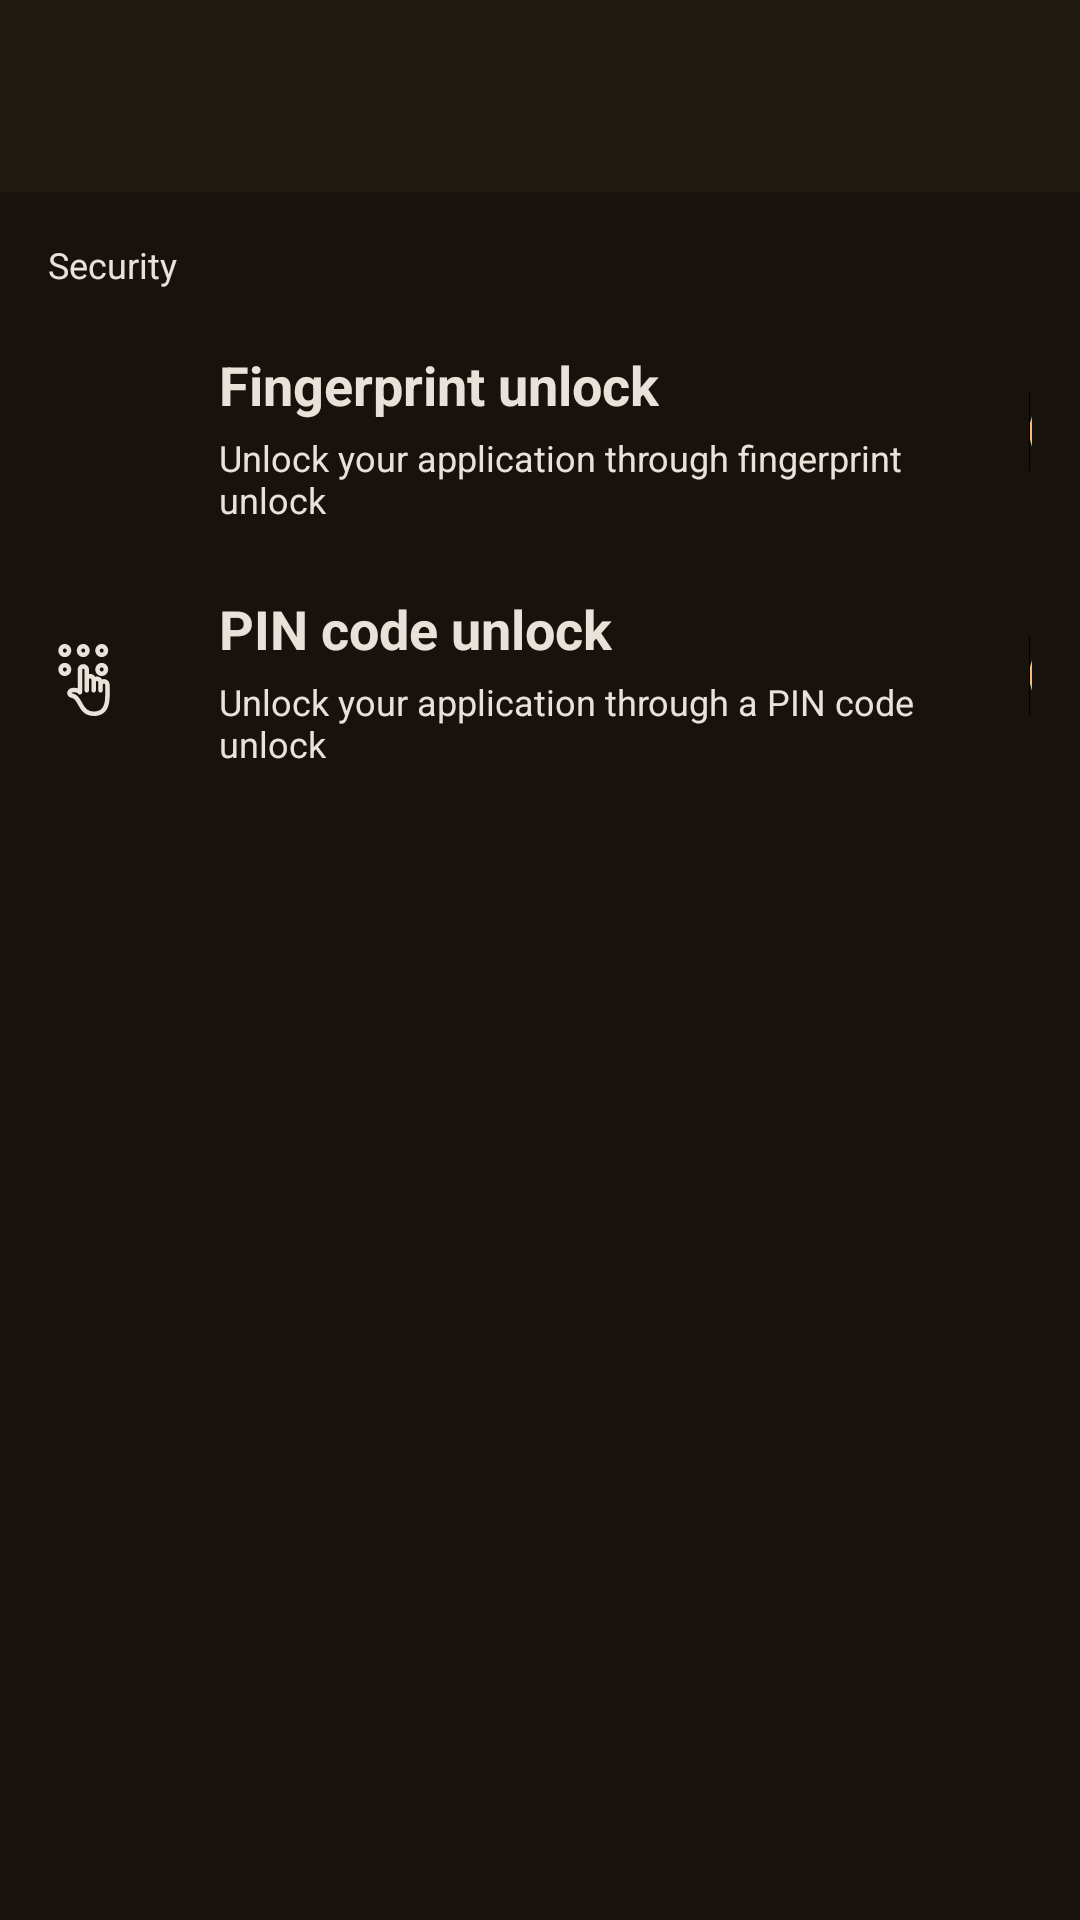

Icon click points for this 1080x1920 phone screenshot, format (x,y):
pin code setting: (84,680)
